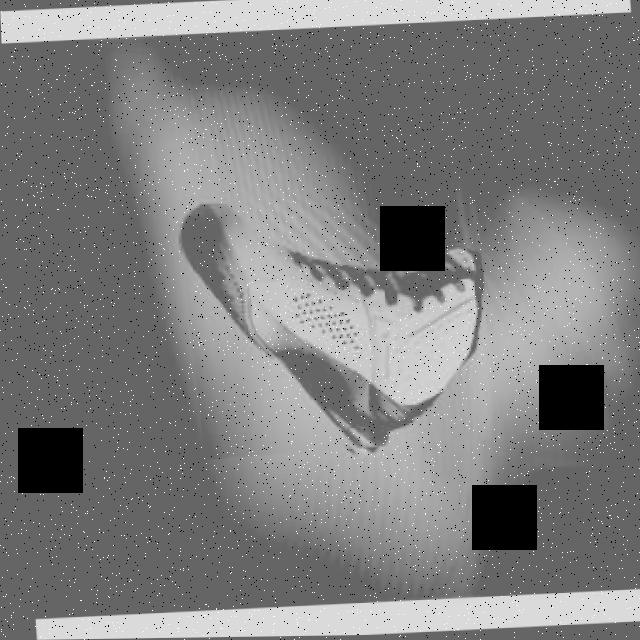shoe: (175, 192, 491, 460)
